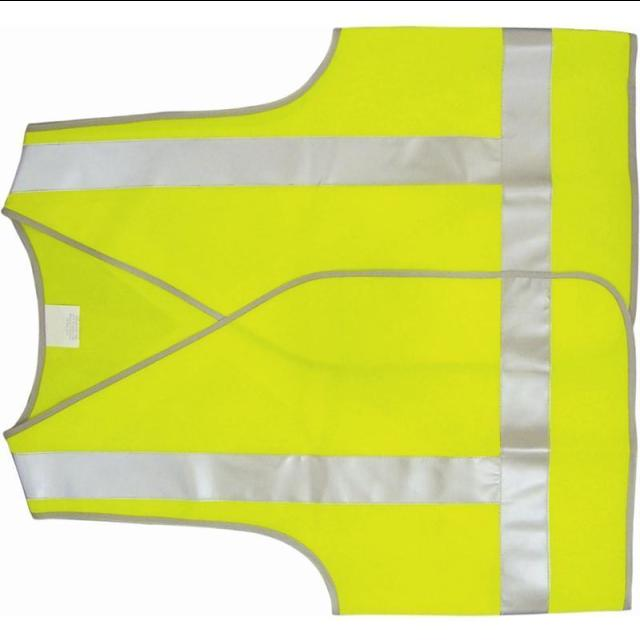jacket: (2, 21, 640, 623)
